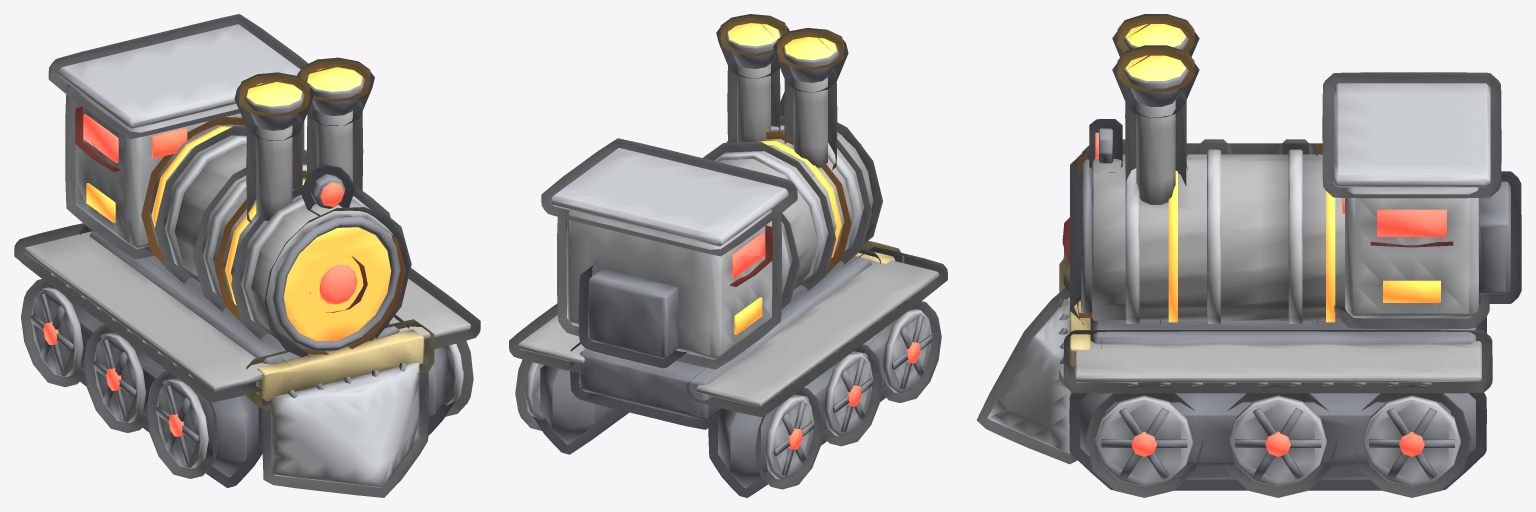
File: juggernaut.glb
3 renders of one model, left to right at view 1: azimuth 30°, elevation 25°; view 2: azimuth 150°, elevation 25°; view 3: azimuth 270°, elevation 25°, orthographic. The views are drawn at different scales.
Parts seen in each view (by area): view 1: M_Body, M_Body_Outline, M_LegB_R0, M_LegA_R1, M_LegB_R2, M_LegB_R0_Outline, M_LegB_R2_Outline, M_LegA_R1_Outline, M_LegA_L0, M_LegA_L0_Outline; view 2: M_Body, M_Body_Outline, M_LegB_R0, M_LegB_R2, M_LegA_R1, M_LegB_R2_Outline, M_LegB_R0_Outline, M_LegA_R1_Outline, M_LegA_L2, M_LegA_L2_Outline; view 3: M_Body, M_Body_Outline, M_LegA_L0, M_LegA_L2, M_LegB_L1, M_LegA_L0_Outline, M_LegA_L2_Outline, M_LegB_L1_Outline.
Part boxes in pixels (x1,y1,x2,y2): M_Body: (24, 24, 470, 487); M_Body_Outline: (14, 14, 480, 497); M_LegB_R0: (156, 379, 208, 468); M_LegA_R1: (93, 333, 145, 422); M_LegB_R2: (31, 287, 83, 376); M_LegB_R0_Outline: (146, 370, 218, 478); M_LegB_R2_Outline: (21, 278, 85, 387); M_LegA_R1_Outline: (83, 324, 147, 432); M_LegA_L0: (442, 343, 463, 405); M_LegA_L0_Outline: (445, 341, 473, 416); M_Body: (518, 23, 938, 488); M_Body_Outline: (509, 14, 947, 497); M_LegB_R0: (883, 309, 932, 393); M_LegB_R2: (765, 395, 814, 479); M_LegA_R1: (824, 352, 873, 436); M_LegB_R2_Outline: (755, 387, 823, 489); M_LegB_R0_Outline: (881, 300, 941, 402); M_LegA_R1_Outline: (822, 344, 882, 446); M_LegA_L2: (524, 362, 544, 420); M_LegA_L2_Outline: (515, 359, 541, 430); M_Body: (987, 24, 1510, 479); M_Body_Outline: (976, 14, 1521, 490); M_LegA_L0: (1095, 395, 1193, 486); M_LegA_L2: (1363, 395, 1460, 486); M_LegB_L1: (1229, 395, 1326, 486); M_LegA_L0_Outline: (1085, 384, 1203, 497); M_LegA_L2_Outline: (1356, 384, 1470, 497); M_LegB_L1_Outline: (1222, 384, 1337, 497).
Size of the model in its own units: 2.95 by 3.77 by 4.68.
